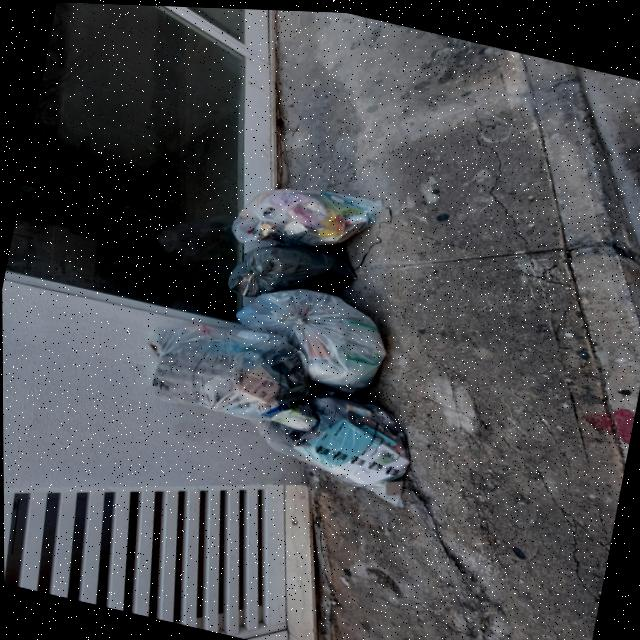Mixed Waste -Black Bag-: (221, 221, 363, 319)
Recycled Waste -Grey or Green Bag-: (241, 373, 427, 509), (225, 266, 400, 398), (138, 303, 308, 432), (226, 163, 385, 260)
